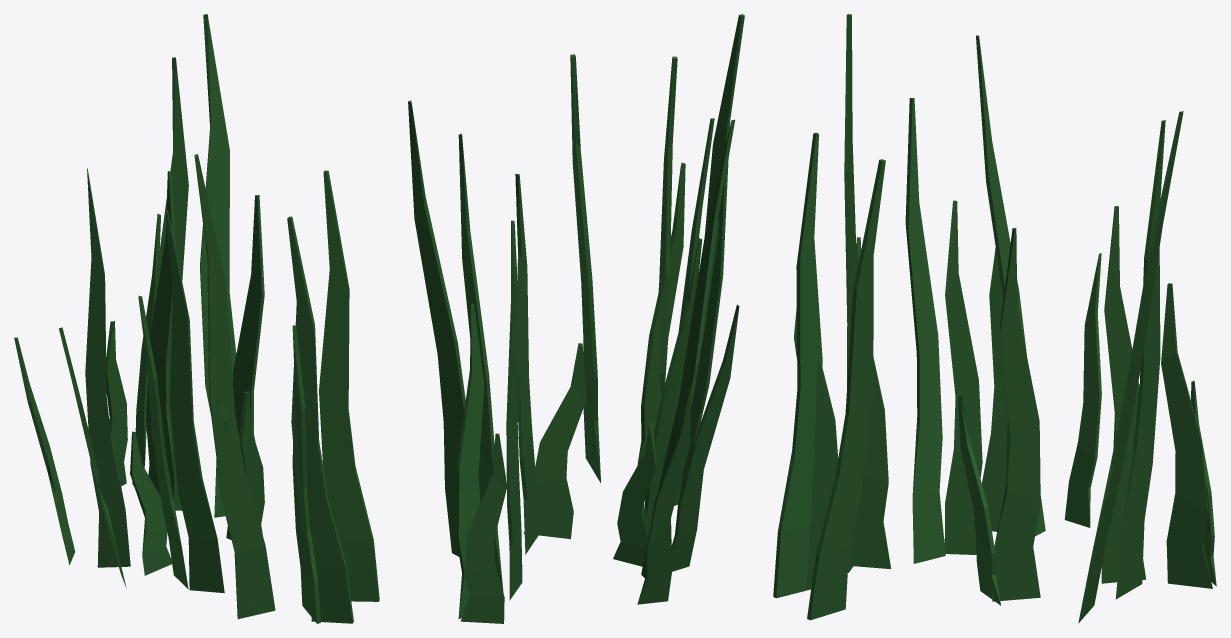
Rendered from prop_sun_seagrass_patch.glb.
3 views of the same model, side by side, from view 1: azimuth 30°, elevation 25°; view 2: azimuth 150°, elevation 25°; view 3: azimuth 270°, elevation 25° (orthographic). The views are drawn at different scales.
Parts seen in each view (by area): view 1: SRC_Seagrass_Patch; view 2: SRC_Seagrass_Patch; view 3: SRC_Seagrass_Patch.
Part boxes in pixels (x1,y1,x2,y2): SRC_Seagrass_Patch: (14, 14, 379, 623); SRC_Seagrass_Patch: (408, 14, 744, 623); SRC_Seagrass_Patch: (773, 14, 1216, 623).
Bounding box in the file's own units: 0.6199 × 1.19 × 0.9115.
